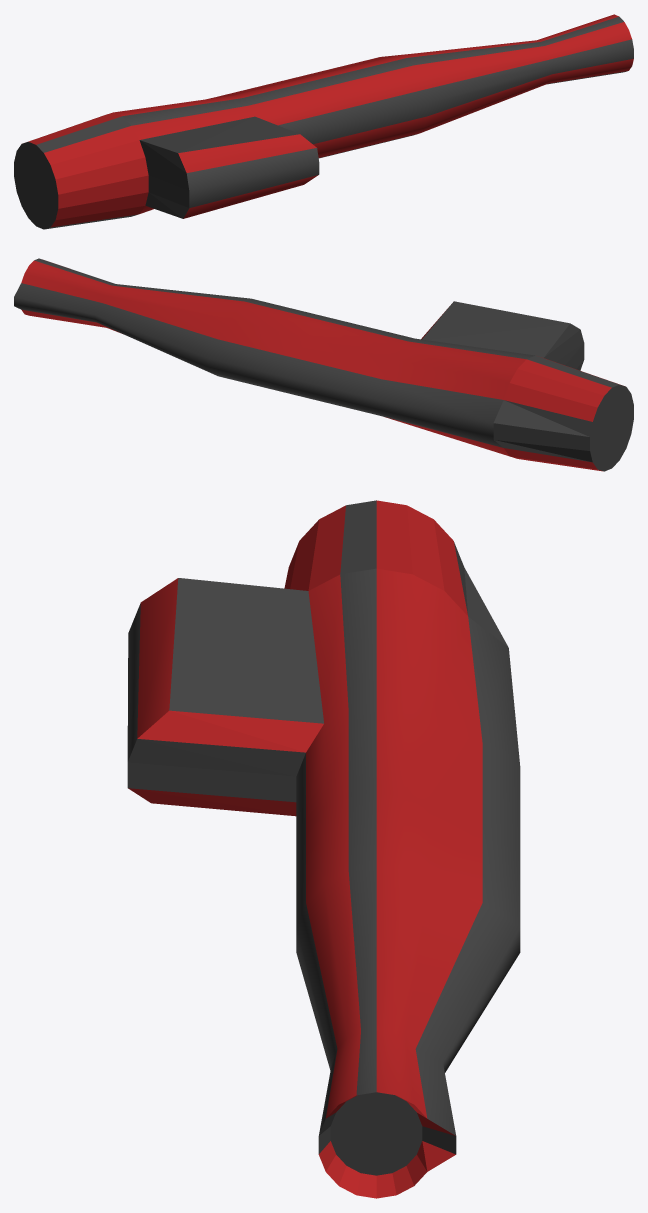
Rendered from Laser Cannon 2.fbx.
The picture shows the model from 3 angles, top to bottom: view 1: azimuth 30°, elevation 25°; view 2: azimuth 150°, elevation 25°; view 3: azimuth 270°, elevation 25°; orthographic projection. The views are drawn at different scales.
Parts seen in each view (by area): view 1: Laser Cannon 2; view 2: Laser Cannon 2; view 3: Laser Cannon 2.
Boxes of the visible parts, bbox=[...] form: Laser Cannon 2: bbox=[14, 14, 633, 229]; Laser Cannon 2: bbox=[14, 258, 633, 471]; Laser Cannon 2: bbox=[127, 500, 520, 1198].
Bounding box in the file's own units: 80.94 × 12.84 × 23.81.
Materials: 2 (2 with a texture image).
